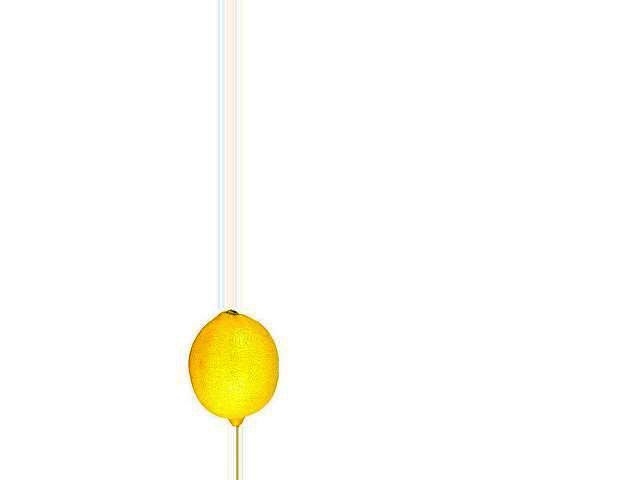lemon: (189, 309, 280, 427)
